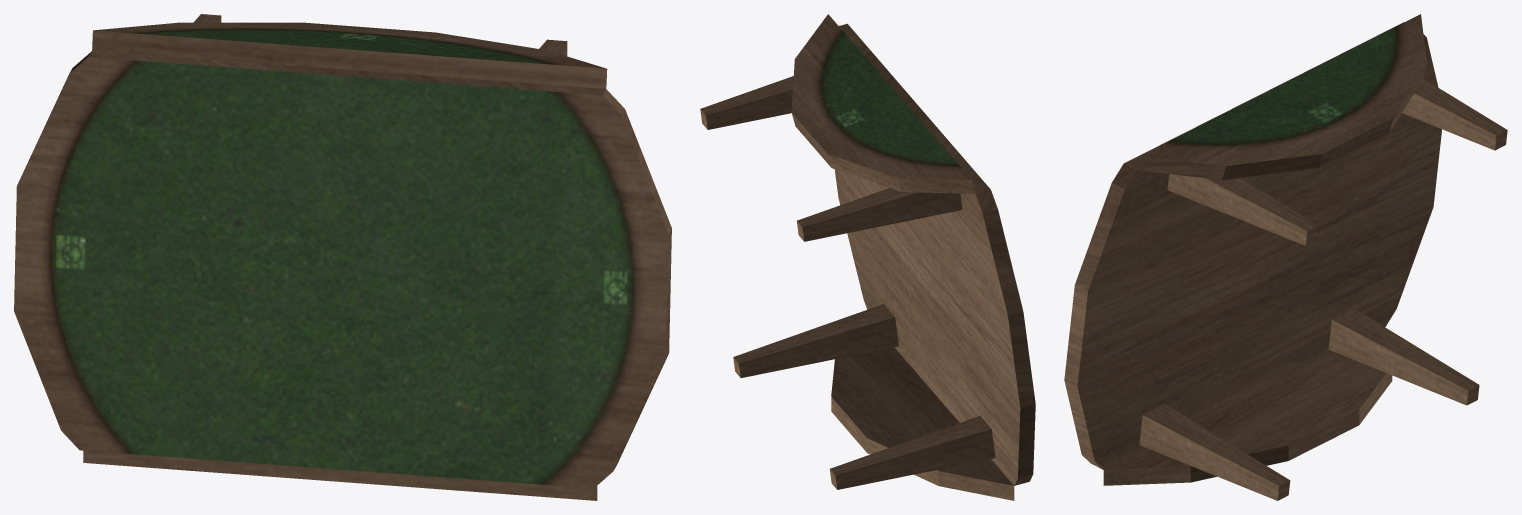
The model's file is cardtable1.fbx.
3 views of the same model, side by side, from view 1: azimuth 30°, elevation 25°; view 2: azimuth 150°, elevation 25°; view 3: azimuth 270°, elevation 25° (orthographic). The views are drawn at different scales.
Visible parts, largest first — view 1: cardtable1; view 2: cardtable1; view 3: cardtable1.
Part boxes in pixels (x1,y1,x2,y2): cardtable1: [14, 14, 671, 500]; cardtable1: [700, 14, 1035, 500]; cardtable1: [1064, 14, 1507, 500].
Bounding box in the file's own units: 10860 × 8733 × 10234.
